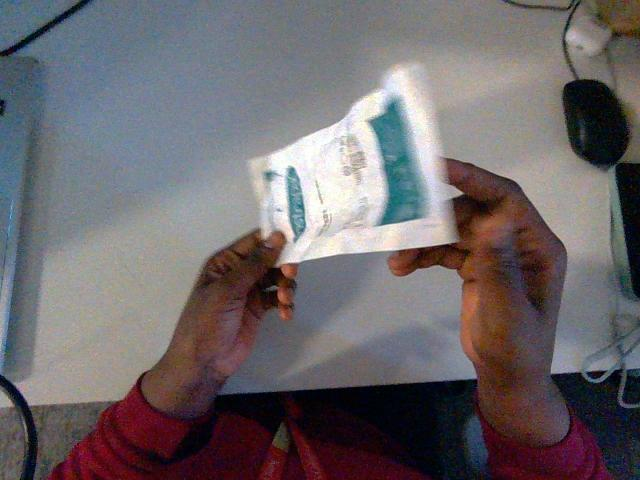gallipot: (250, 64, 456, 262)
